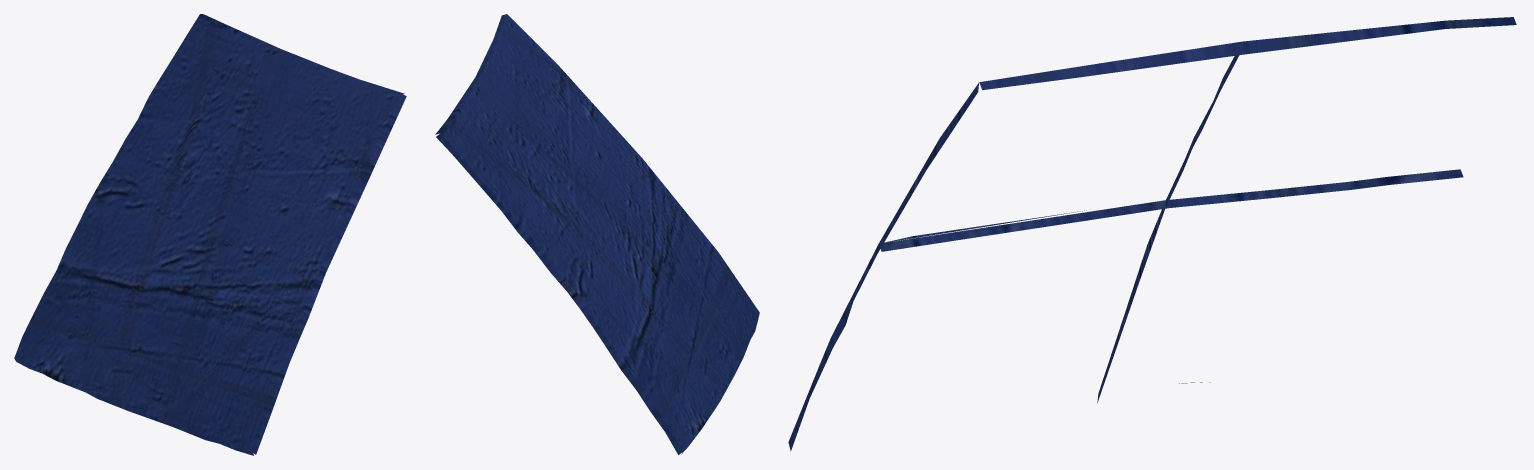
The picture shows the model from 3 angles, left to right: view 1: azimuth 30°, elevation 25°; view 2: azimuth 150°, elevation 25°; view 3: azimuth 270°, elevation 25°; orthographic projection. The views are drawn at different scales.
Bounding box in the file's own units: 1043703 × 989507 × 1164419.
1 material, 1 textured.
